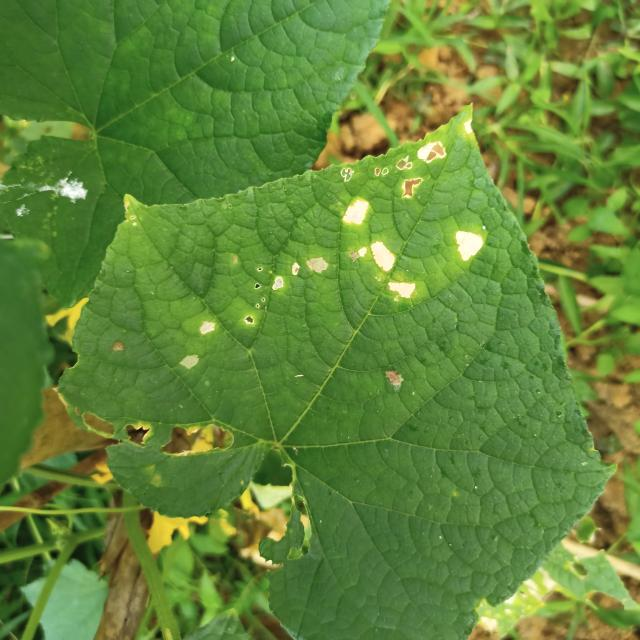disease_cucumber: (162, 113, 484, 384)
